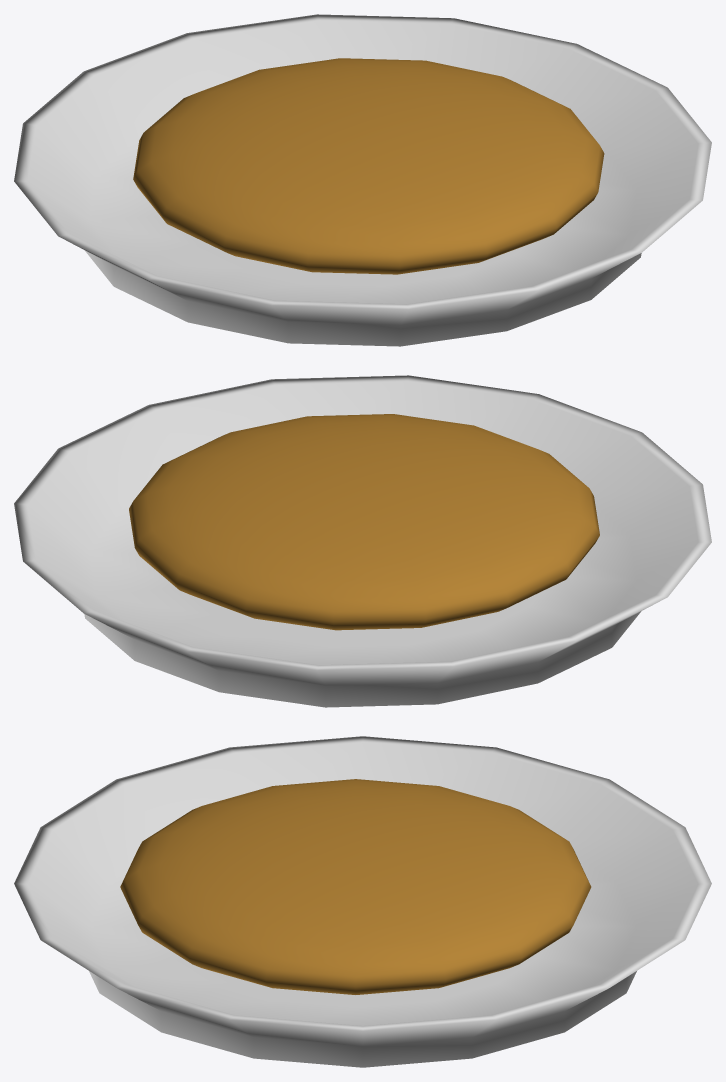
File: Torta frita.fbx
3 views of the same model, one above another, from view 1: azimuth 30°, elevation 25°; view 2: azimuth 150°, elevation 25°; view 3: azimuth 270°, elevation 25° (orthographic).
Parts seen in each view (by area): view 1: TortaFrita.001; view 2: TortaFrita.001; view 3: TortaFrita.001.
Part boxes in pixels (<box>): TortaFrita.001: <box>14,14,711,346</box>; TortaFrita.001: <box>14,375,711,707</box>; TortaFrita.001: <box>14,736,711,1067</box>.
Bounding box in the file's own units: 238 × 38.82 × 238.
